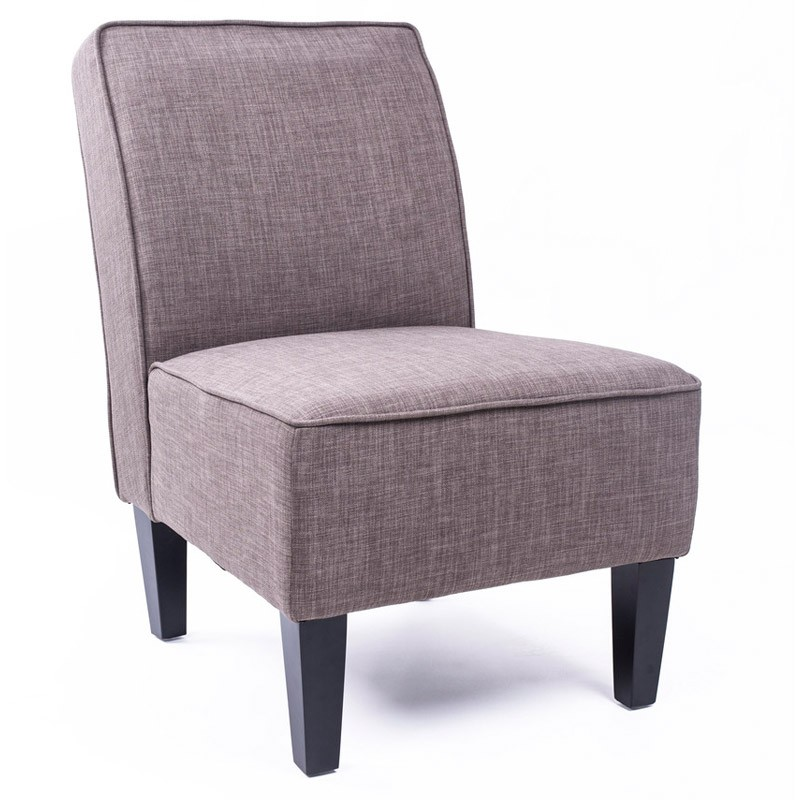chairs: (65, 13, 703, 779)
